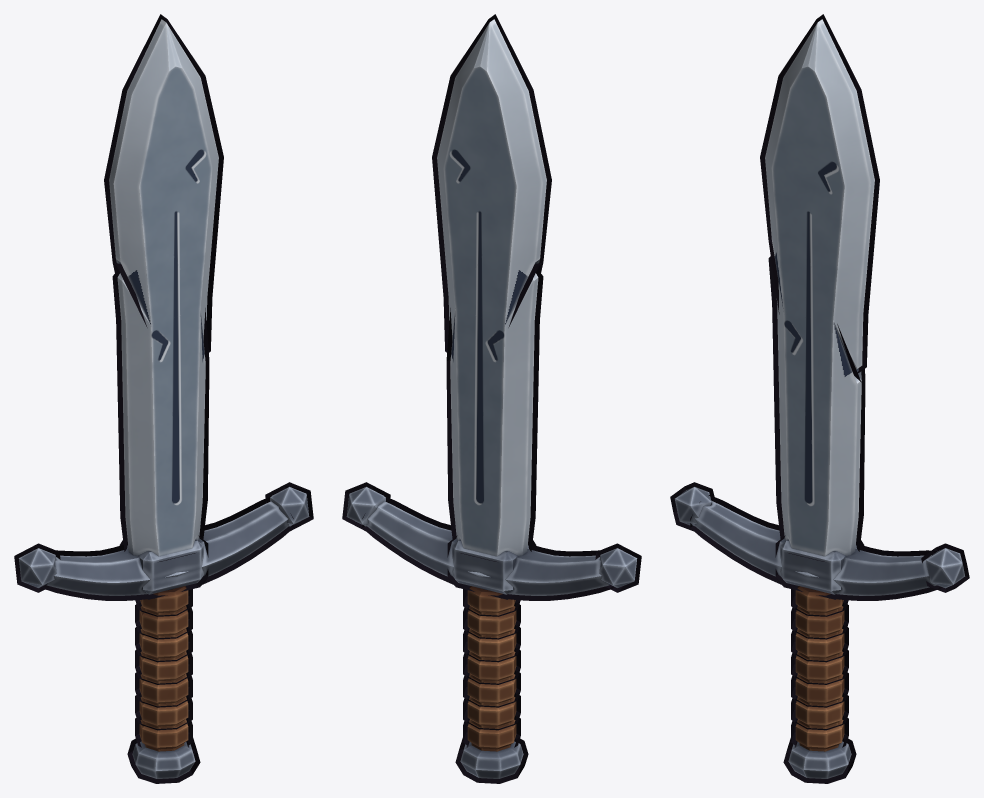
The model's file is IronSword.fbx.
3 views of the same model, side by side, from view 1: azimuth 30°, elevation 25°; view 2: azimuth 150°, elevation 25°; view 3: azimuth 330°, elevation 25° (orthographic).
Visible parts, largest first — view 1: IronSword, IronSwordOutline; view 2: IronSword, IronSwordOutline; view 3: IronSword, IronSwordOutline.
Boxes of the visible parts, x1,y1,x2,y2 form: IronSword: (18,19,309,778); IronSwordOutline: (14,14,313,783); IronSword: (346,19,637,778); IronSwordOutline: (342,14,641,783); IronSword: (675,19,964,778); IronSwordOutline: (670,14,969,783).
Size of the model in its own units: 145 by 360 by 32.37.
Materials: 2 (1 with a texture image).
